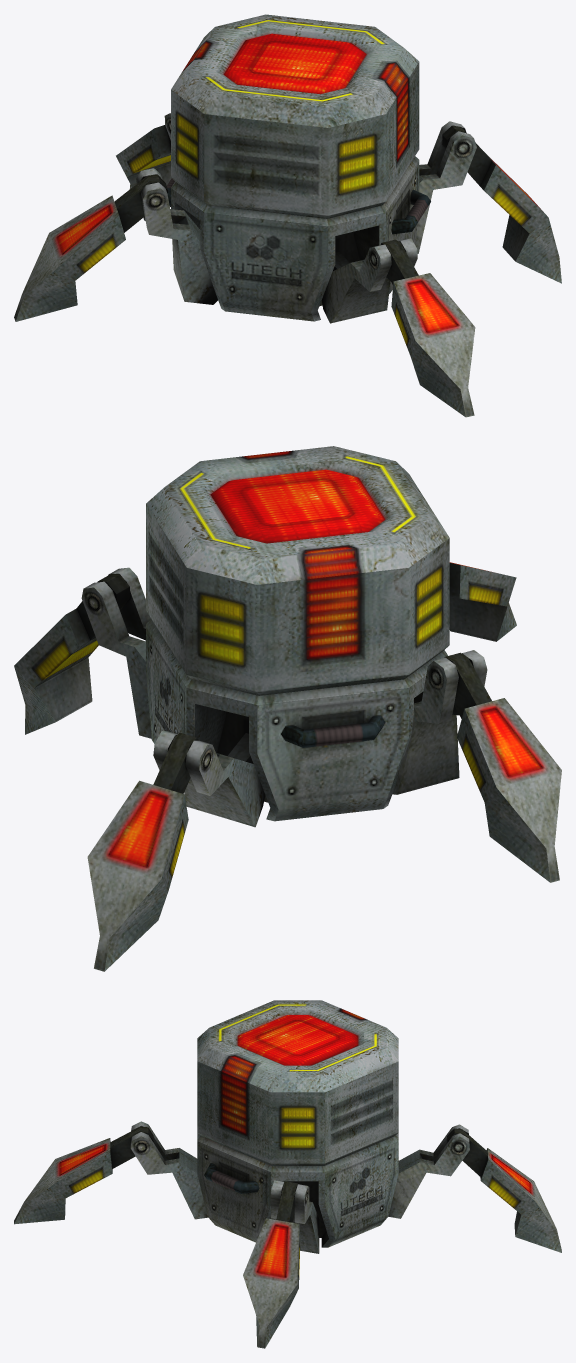
File: mine_bot.FBX
The picture shows the model from 3 angles, top to bottom: view 1: azimuth 30°, elevation 25°; view 2: azimuth 150°, elevation 25°; view 3: azimuth 270°, elevation 25°; orthographic projection. The views are drawn at different scales.
Parts seen in each view (by area): view 1: minebot_head, minebot_main, minebot_right_lowerleg, minebot_back_lowerleg, minebot_front_lowerleg, minebot_front_upperleg, minebot_right_upperleg, minebot_front_upperleg_ncl1_1, minebot_left_lowerleg; view 2: minebot_head, minebot_main, minebot_left_lowerleg, minebot_back_lowerleg, minebot_front_lowerleg, minebot_front_upperleg, minebot_left_upperleg, minebot_front_upperleg_ncl1_1, minebot_right_lowerleg; view 3: minebot_head, minebot_main, minebot_front_lowerleg, minebot_right_lowerleg, minebot_left_lowerleg, minebot_left_upperleg, minebot_right_upperleg, minebot_front_upperleg_ncl1_1.
Boxes of the visible parts, <box> form: minebot_head: <box>171,14,419,218</box>; minebot_main: <box>167,156,430,321</box>; minebot_right_lowerleg: <box>380,239,475,417</box>; minebot_back_lowerleg: <box>14,174,168,321</box>; minebot_front_lowerleg: <box>442,125,561,283</box>; minebot_front_upperleg: <box>136,168,217,304</box>; minebot_right_upperleg: <box>321,238,417,323</box>; minebot_front_upperleg_ncl1_1: <box>415,121,476,253</box>; minebot_left_lowerleg: <box>116,125,171,188</box>; minebot_head: <box>146,446,449,695</box>; minebot_main: <box>146,619,447,821</box>; minebot_left_lowerleg: <box>87,732,198,971</box>; minebot_back_lowerleg: <box>444,652,561,882</box>; minebot_front_lowerleg: <box>14,573,130,734</box>; minebot_front_upperleg: <box>392,650,487,794</box>; minebot_left_upperleg: <box>153,731,265,827</box>; minebot_front_upperleg_ncl1_1: <box>81,567,151,738</box>; minebot_right_lowerleg: <box>449,562,516,641</box>; minebot_head: <box>197,1000,398,1165</box>; minebot_main: <box>197,1133,398,1247</box>; minebot_front_lowerleg: <box>243,1181,300,1348</box>; minebot_right_lowerleg: <box>14,1126,153,1224</box>; minebot_left_lowerleg: <box>447,1128,561,1252</box>; minebot_left_upperleg: <box>388,1124,469,1218</box>; minebot_right_upperleg: <box>130,1121,207,1219</box>; minebot_front_upperleg_ncl1_1: <box>270,1180,319,1253</box>.
Bounding box in the file's own units: 6.63 × 3.42 × 7.91.
Materials: 1 (1 with a texture image).
